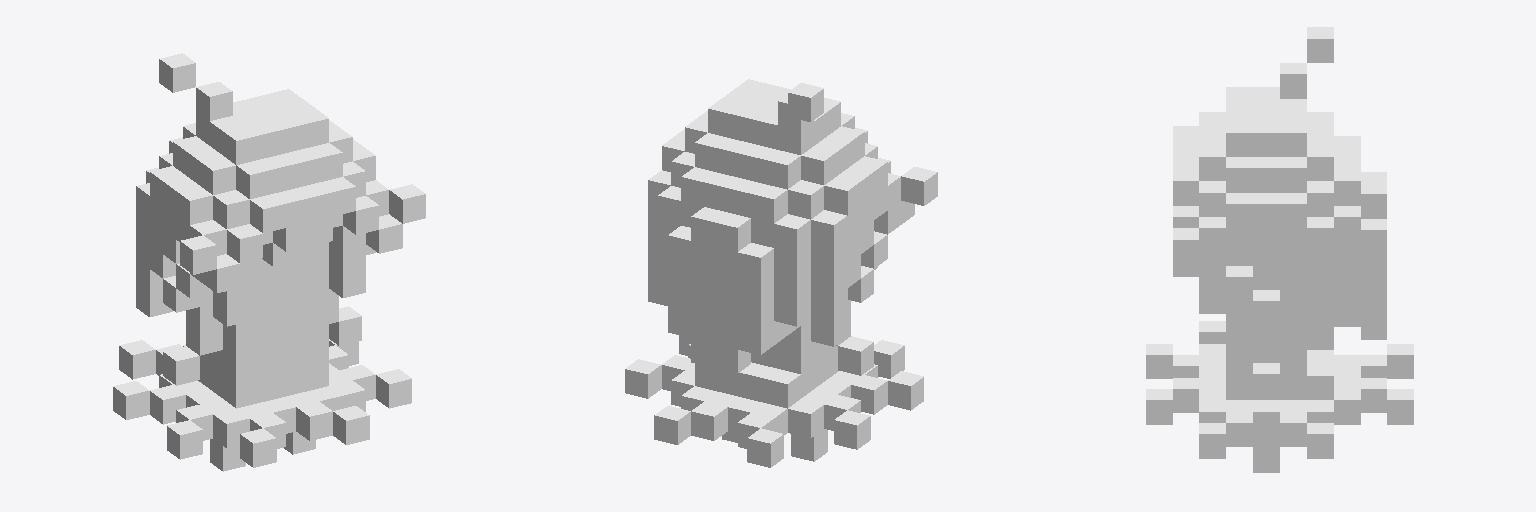
File: HaleyKelp.obj
The picture shows the model from 3 angles: view 1: azimuth 30°, elevation 25°; view 2: azimuth 150°, elevation 25°; view 3: azimuth 270°, elevation 25°; orthographic projection.
Visible parts, largest first — view 1: object 1; view 2: object 1; view 3: object 1.
Part boxes in pixels (bbox=[...]): object 1: bbox=[113, 53, 425, 471]; object 1: bbox=[625, 79, 937, 467]; object 1: bbox=[1146, 27, 1413, 472].
Bounding box in the file's own units: 1 × 1.6 × 1.